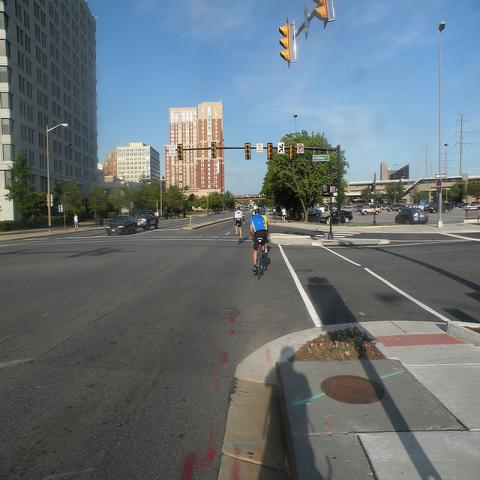car: (320, 207, 428, 224), (106, 214, 138, 238), (359, 204, 382, 216), (428, 202, 450, 214), (340, 205, 360, 215), (387, 203, 408, 212), (463, 202, 480, 210), (308, 208, 322, 217)
truck: (133, 206, 160, 230)
